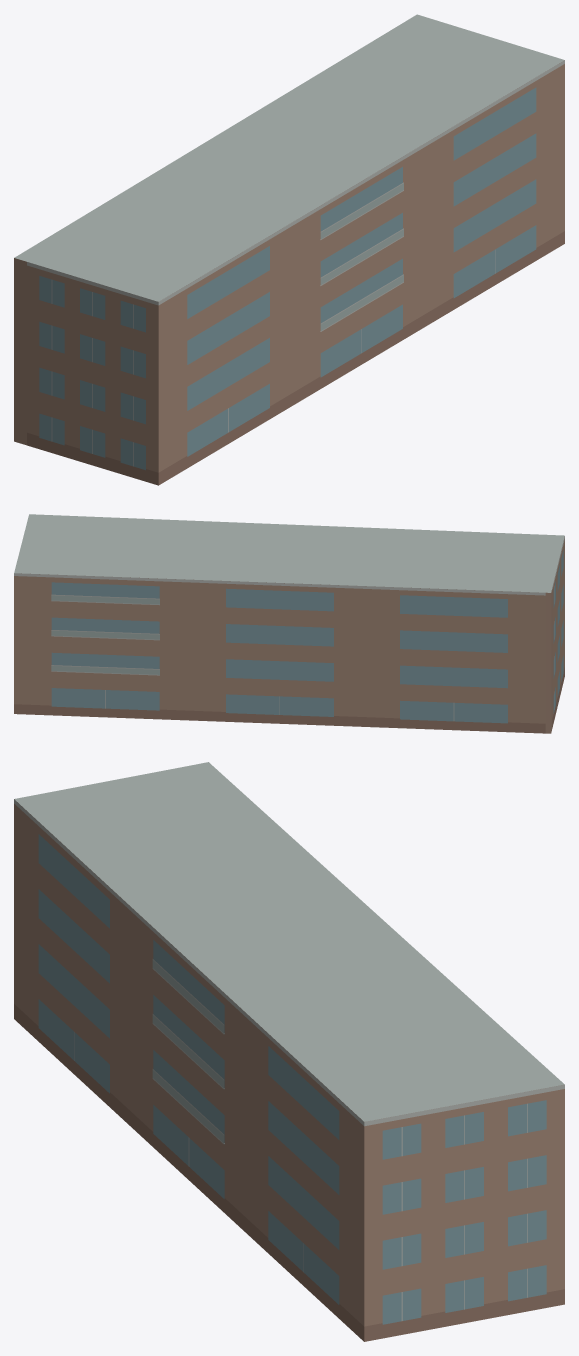
File: survey-upis-32725182.glb
The picture shows the model from 3 angles, top to bottom: view 1: azimuth 30°, elevation 25°; view 2: azimuth 150°, elevation 25°; view 3: azimuth 270°, elevation 25°; orthographic projection. The views are drawn at different scales.
Parts seen in each view (by area): view 1: survey-upis-32725182.tmp; view 2: survey-upis-32725182.tmp; view 3: survey-upis-32725182.tmp.
Part boxes in pixels (<box>): survey-upis-32725182.tmp: <box>14,14,564,485</box>; survey-upis-32725182.tmp: <box>14,514,564,733</box>; survey-upis-32725182.tmp: <box>14,762,564,1341</box>.
Bounding box in the file's own units: 42.82 × 12.2 × 27.7.
